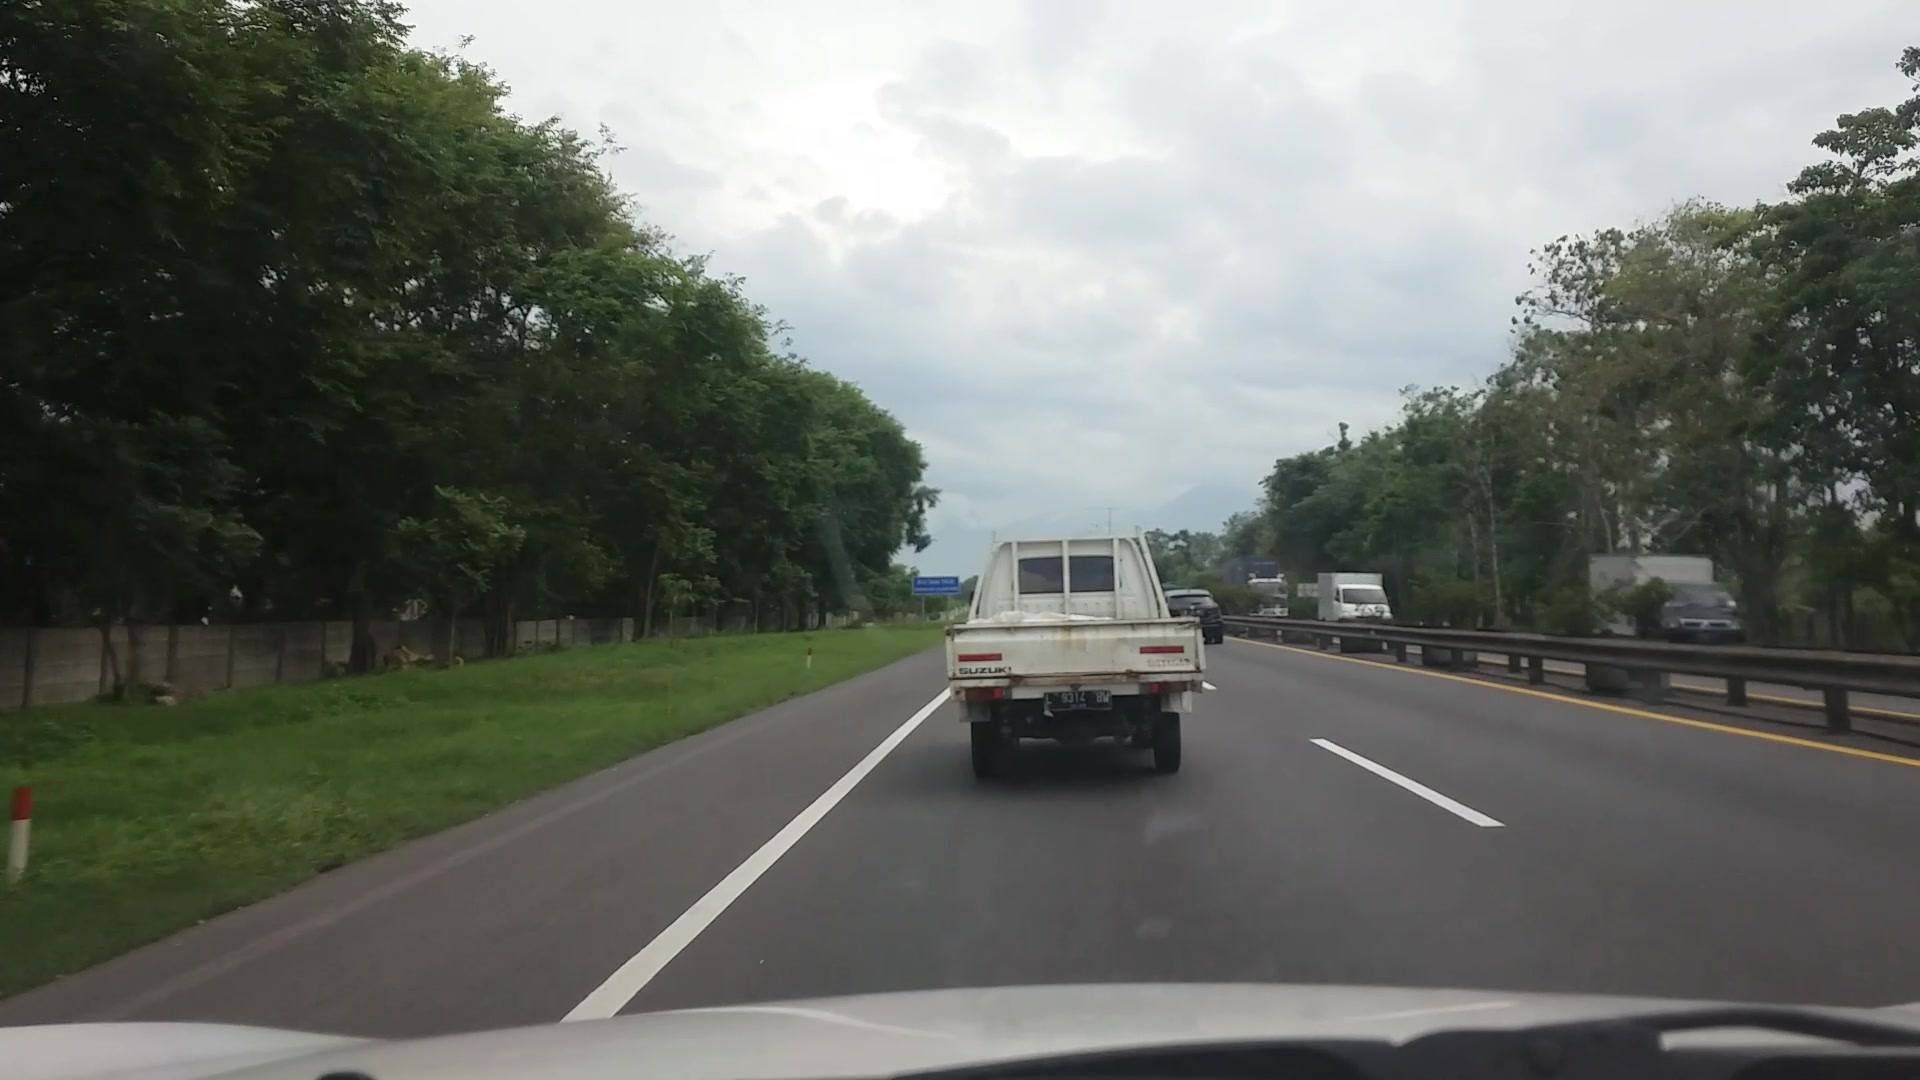plate_positive: (1044, 690, 1113, 712)
